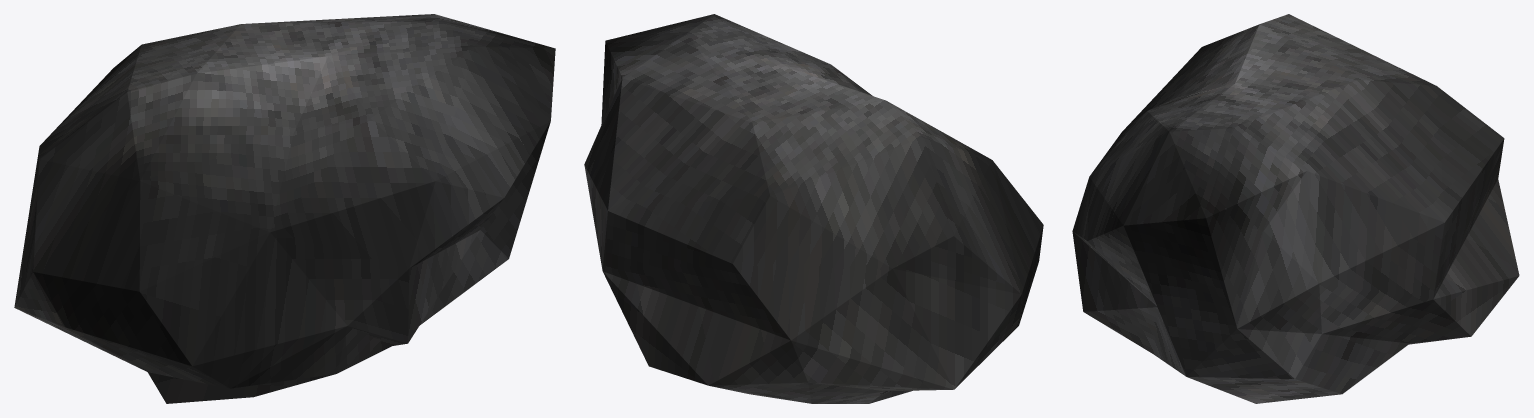
The model's file is stoneMediumFlat.glb.
3 renders of one model, left to right at view 1: azimuth 30°, elevation 25°; view 2: azimuth 150°, elevation 25°; view 3: azimuth 270°, elevation 25°, orthographic. The views are drawn at different scales.
Parts seen in each view (by area): view 1: Icosphere.002; view 2: Icosphere.002; view 3: Icosphere.002.
Part boxes in pixels (box(x1,y1,x2,y2)): Icosphere.002: box(14, 14, 555, 403); Icosphere.002: box(584, 14, 1043, 403); Icosphere.002: box(1072, 14, 1519, 403).
Size of the model in its own units: 5.34 by 3.39 by 4.33.
1 material, 1 textured.
